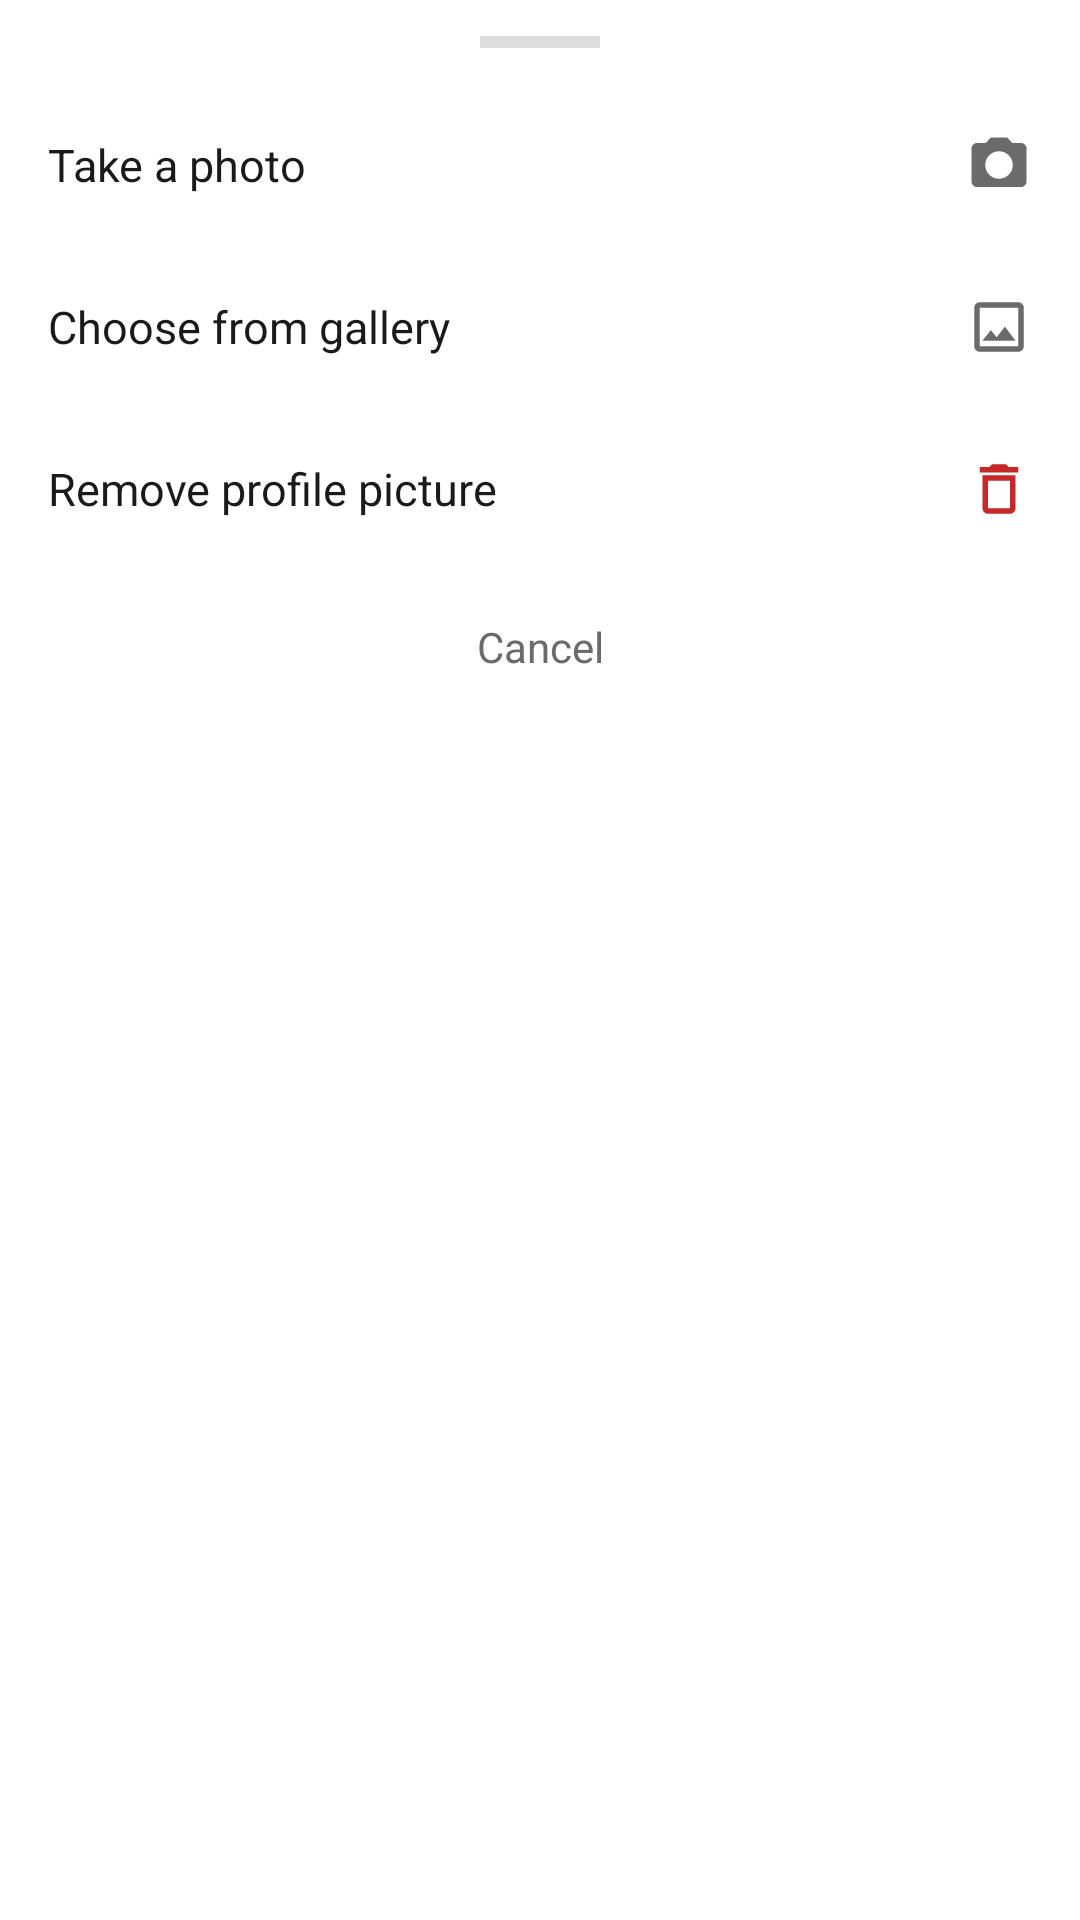

Point at icon controls on the screen. Image size 1080 x 1920, points as point (x, y).
camera: point (999, 162)
row trash: point (999, 489)
